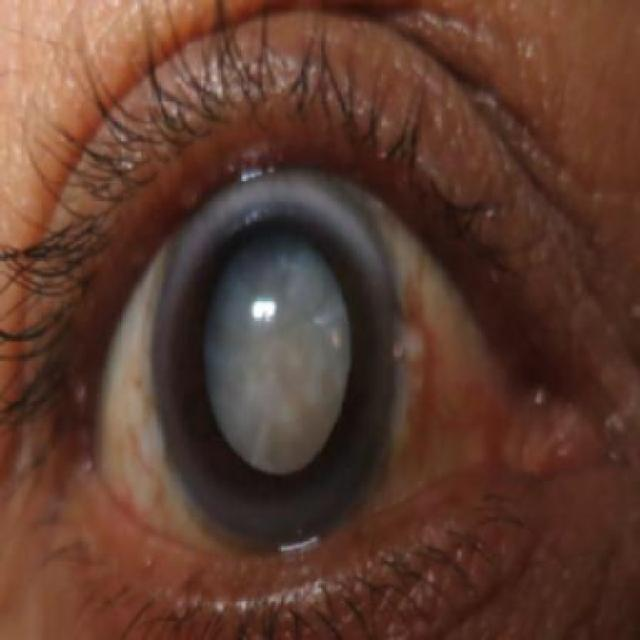Cataract: (152, 168, 399, 552)
